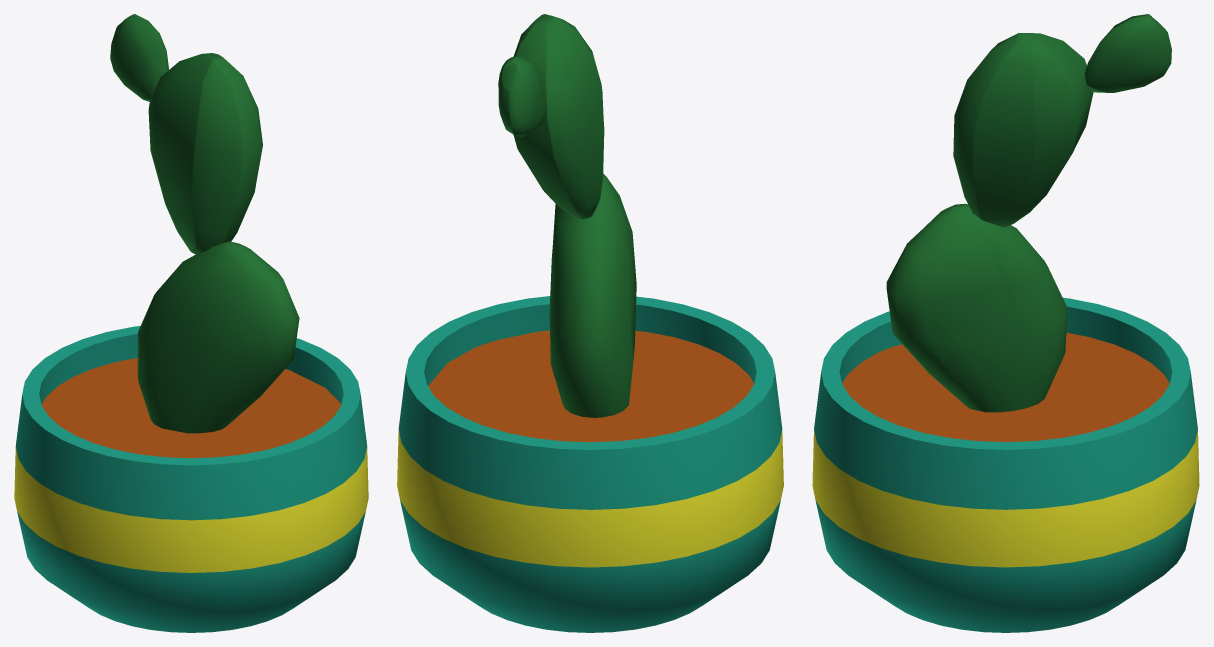
The model's file is SM_Fowers.fbx.
3 views of the same model, side by side, from view 1: azimuth 30°, elevation 25°; view 2: azimuth 150°, elevation 25°; view 3: azimuth 270°, elevation 25° (orthographic). The views are drawn at different scales.
Visible parts, largest first — view 1: SM_Fowers; view 2: SM_Fowers; view 3: SM_Fowers.
Boxes of the visible parts, x1,y1,x2,y2 form: SM_Fowers: (14, 14, 368, 632); SM_Fowers: (397, 14, 783, 632); SM_Fowers: (812, 14, 1199, 632).
Size of the model in its own units: 15.99 by 15.99 by 25.84.
